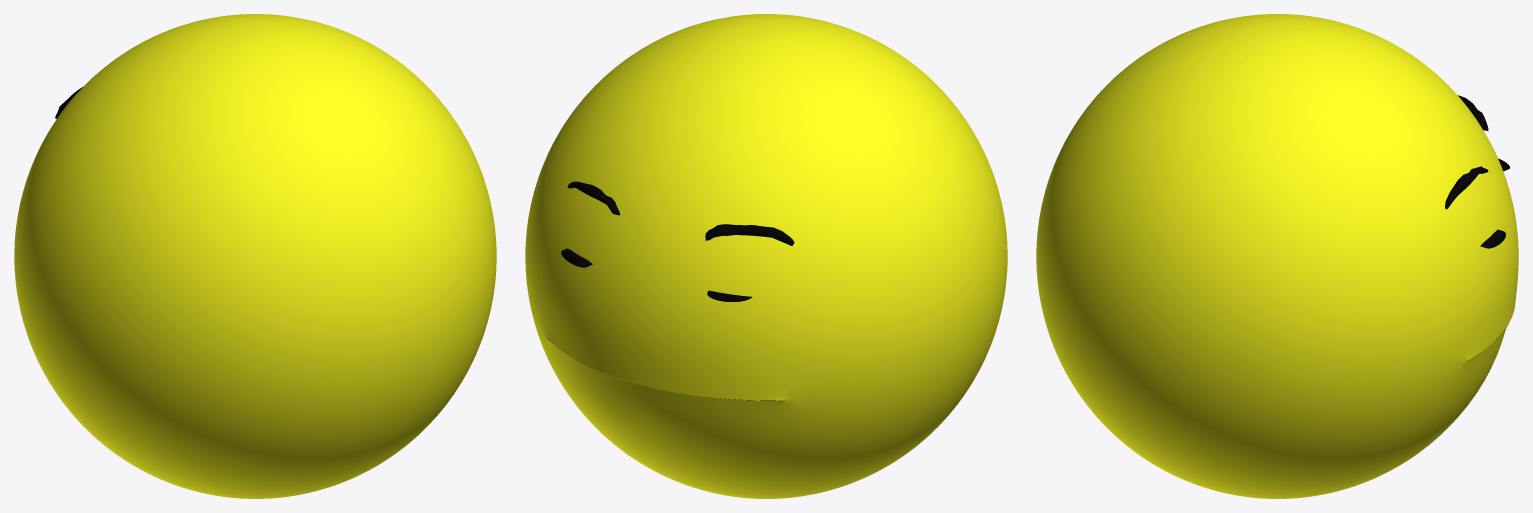
File: [8] eyesClosed.obj
The picture shows the model from 3 angles, left to right: view 1: azimuth 30°, elevation 25°; view 2: azimuth 150°, elevation 25°; view 3: azimuth 270°, elevation 25°; orthographic projection.
Parts seen in each view (by area): view 1: head_Sphere.002; view 2: head_Sphere.002, rightEyebrow_Cylinder.005, leftEyebrow_Cylinder.003; view 3: head_Sphere.002, leftEyebrow_Cylinder.003.
Boxes of the visible parts, bbox=[...] form: head_Sphere.002: bbox=[14, 14, 496, 498]; head_Sphere.002: bbox=[525, 14, 1007, 498]; rightEyebrow_Cylinder.005: bbox=[705, 224, 794, 245]; leftEyebrow_Cylinder.003: bbox=[567, 181, 619, 215]; head_Sphere.002: bbox=[1036, 14, 1518, 498]; leftEyebrow_Cylinder.003: bbox=[1445, 166, 1488, 209].
Size of the model in its own units: 3.65 by 3.69 by 3.65.
